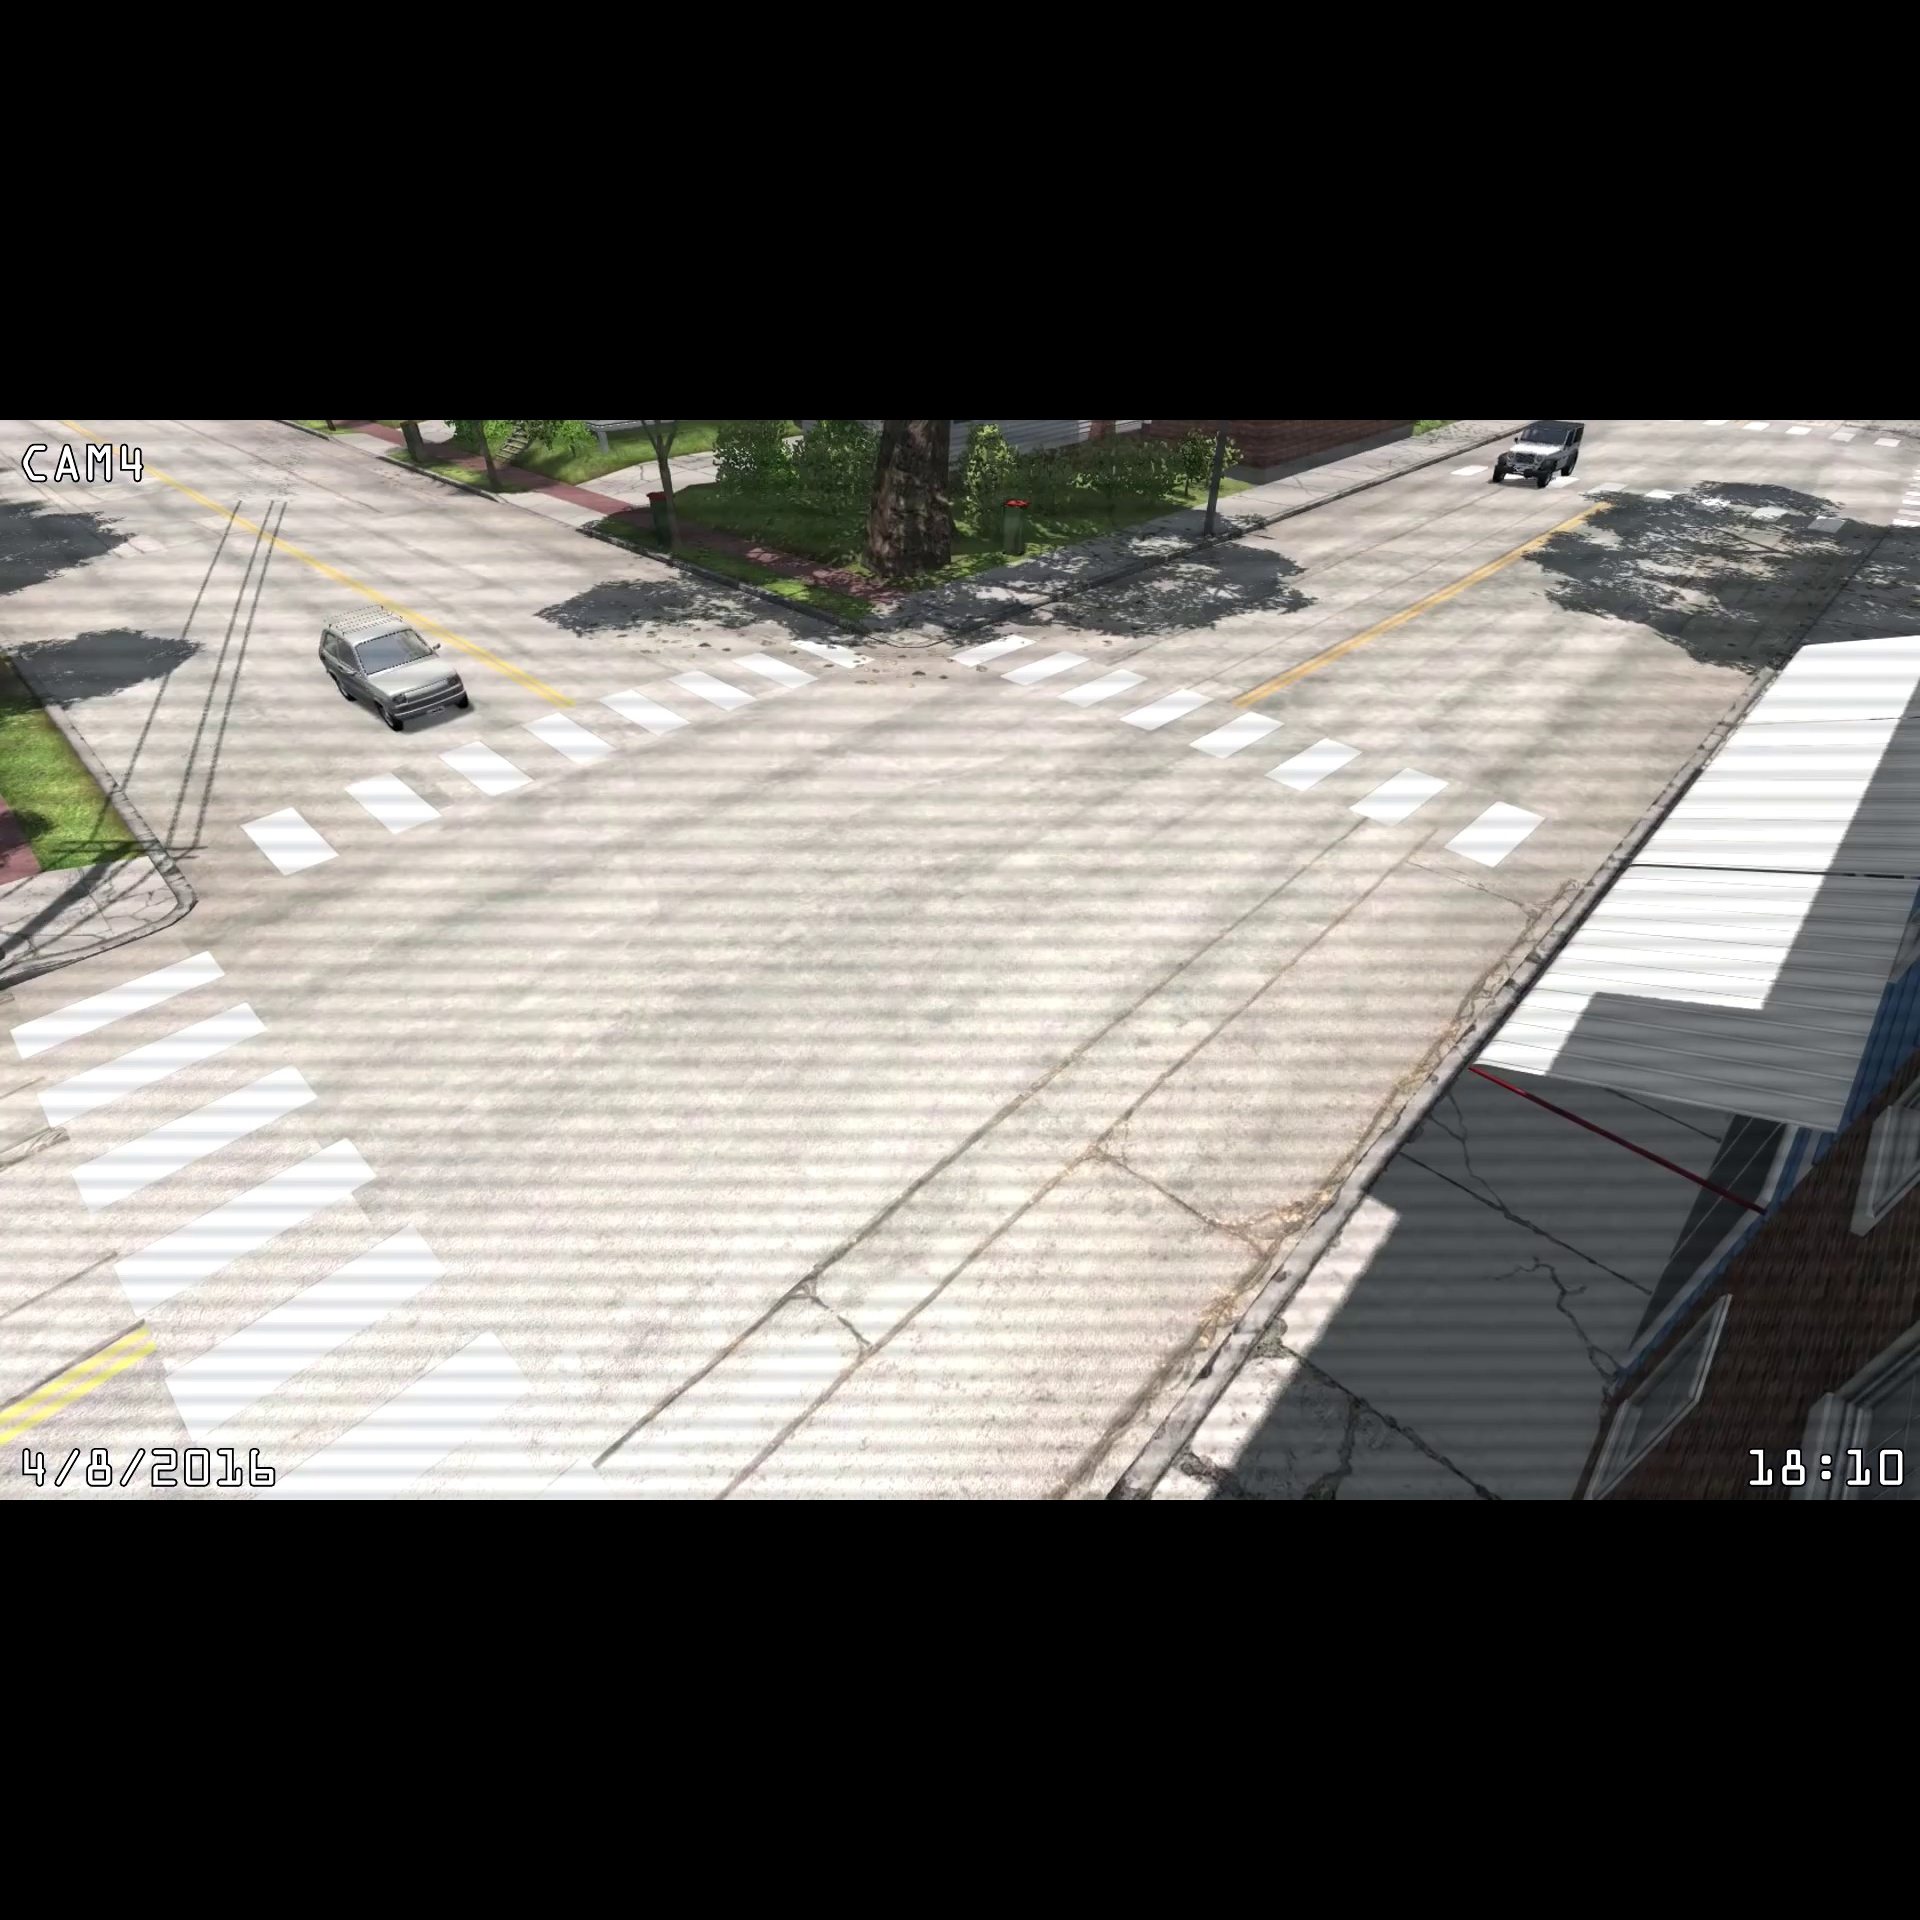vehicle: (313, 598, 476, 737), (1489, 418, 1589, 494)
